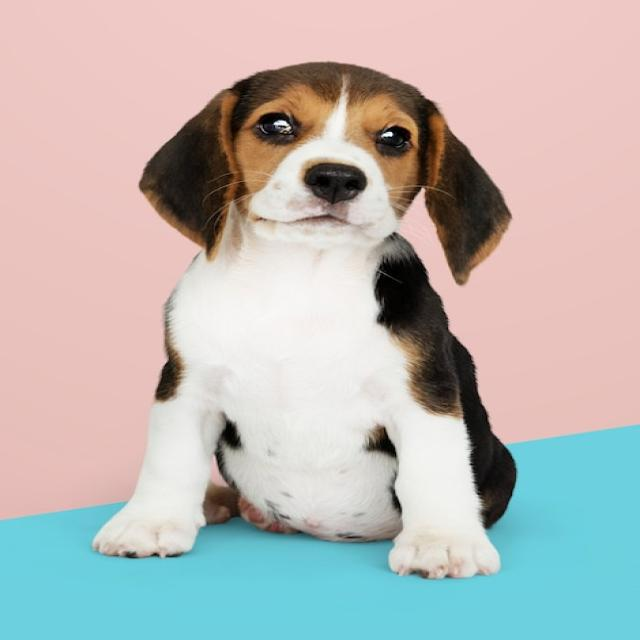Dog: (93, 62, 516, 580)
